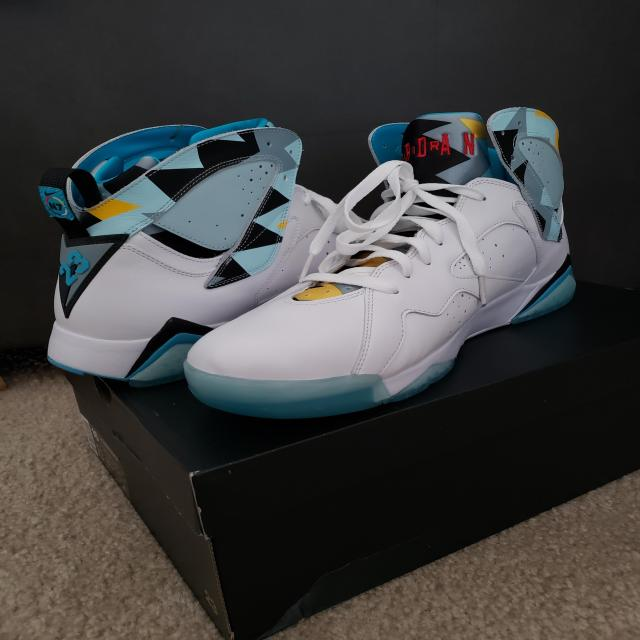shoes: (190, 110, 580, 421), (45, 118, 347, 380)
